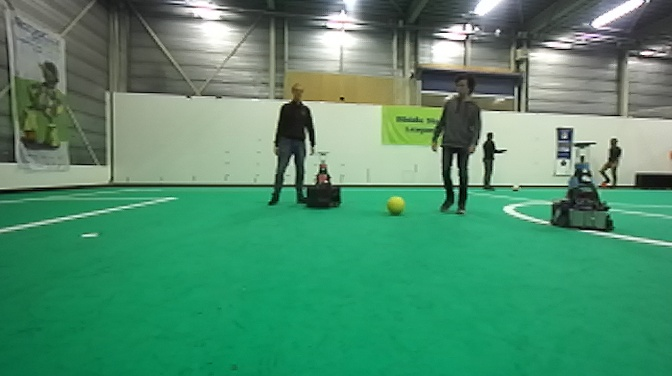ball: (384, 193, 405, 220), (598, 180, 611, 191), (509, 183, 521, 194)
human: (424, 76, 483, 217), (264, 83, 317, 208), (478, 128, 508, 192), (596, 132, 623, 189)
robot: (547, 137, 616, 234), (304, 150, 344, 212)
